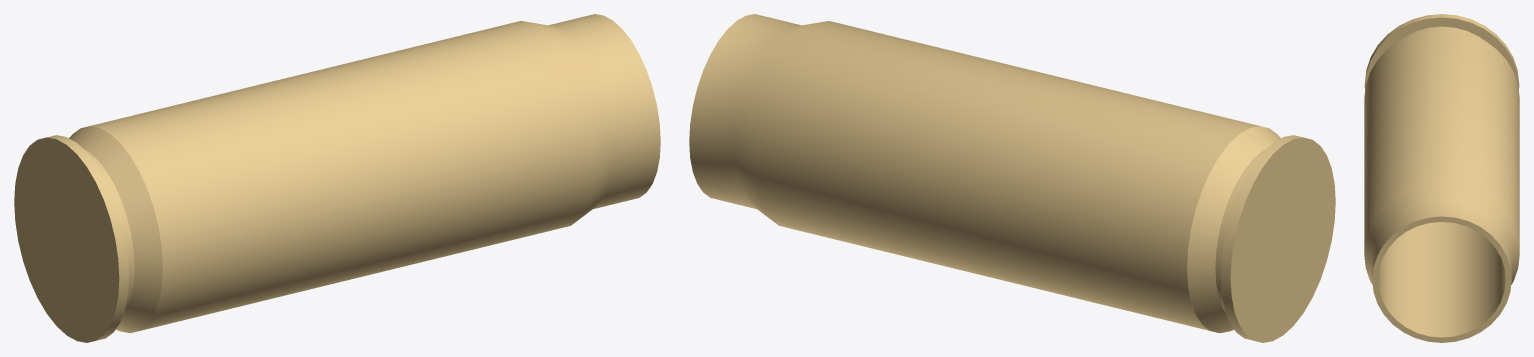
The model's file is casing.gltf.
The picture shows the model from 3 angles, left to right: view 1: azimuth 30°, elevation 25°; view 2: azimuth 150°, elevation 25°; view 3: azimuth 270°, elevation 25°; orthographic projection. The views are drawn at different scales.
Visible parts, largest first — view 1: casing; view 2: casing; view 3: casing.
Part boxes in pixels (left/top/right/bottom): casing: left=14, top=14, right=660, bottom=342; casing: left=689, top=14, right=1335, bottom=342; casing: left=1364, top=14, right=1519, bottom=342.
Bounding box in the file's own units: 0.0287 × 0.00965 × 0.00965.
